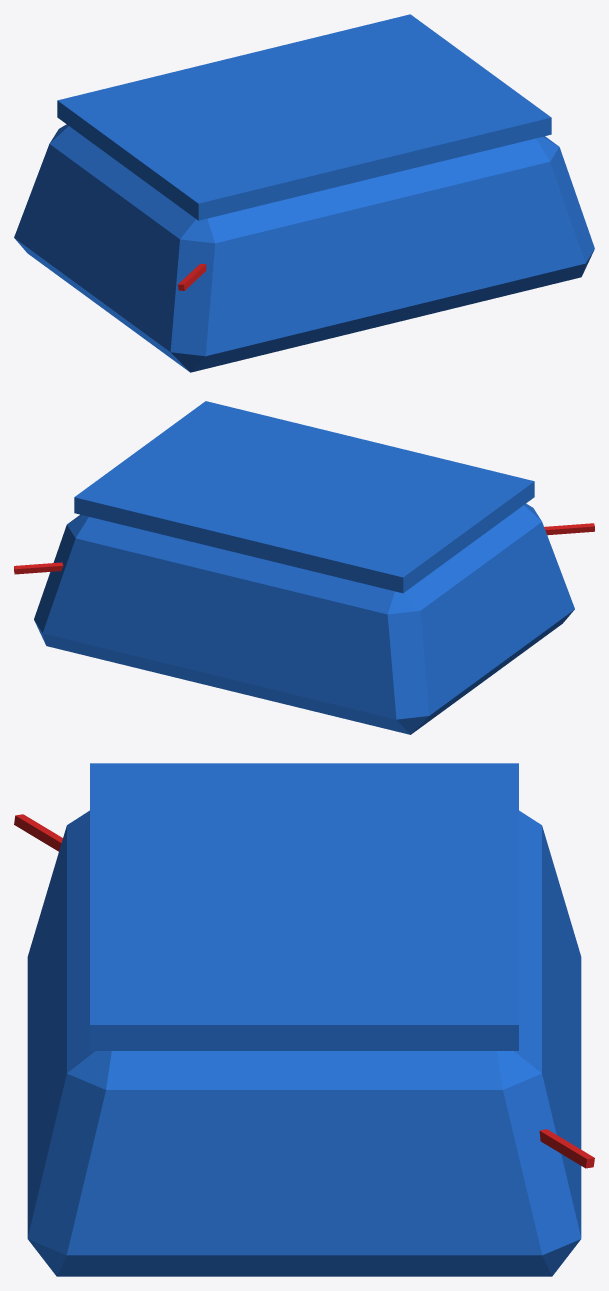
File: env_tarp_stack.fbx
3 renders of one model, top to bottom at view 1: azimuth 30°, elevation 25°; view 2: azimuth 150°, elevation 25°; view 3: azimuth 270°, elevation 25°, orthographic. The views are drawn at different scales.
Parts seen in each view (by area): view 1: env_tarp_stack_geo; view 2: env_tarp_stack_geo; view 3: env_tarp_stack_geo.
Boxes of the visible parts, x1,y1,x2,y2 form: env_tarp_stack_geo: [14, 14, 594, 372]; env_tarp_stack_geo: [14, 401, 594, 734]; env_tarp_stack_geo: [14, 763, 594, 1276].
Size of the model in its own units: 1.61 by 0.55 by 1.22.
